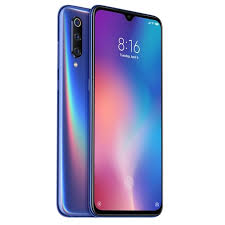mi: (55, 1, 166, 219)
